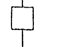Cable Termination Box: (10, 4, 38, 35)
